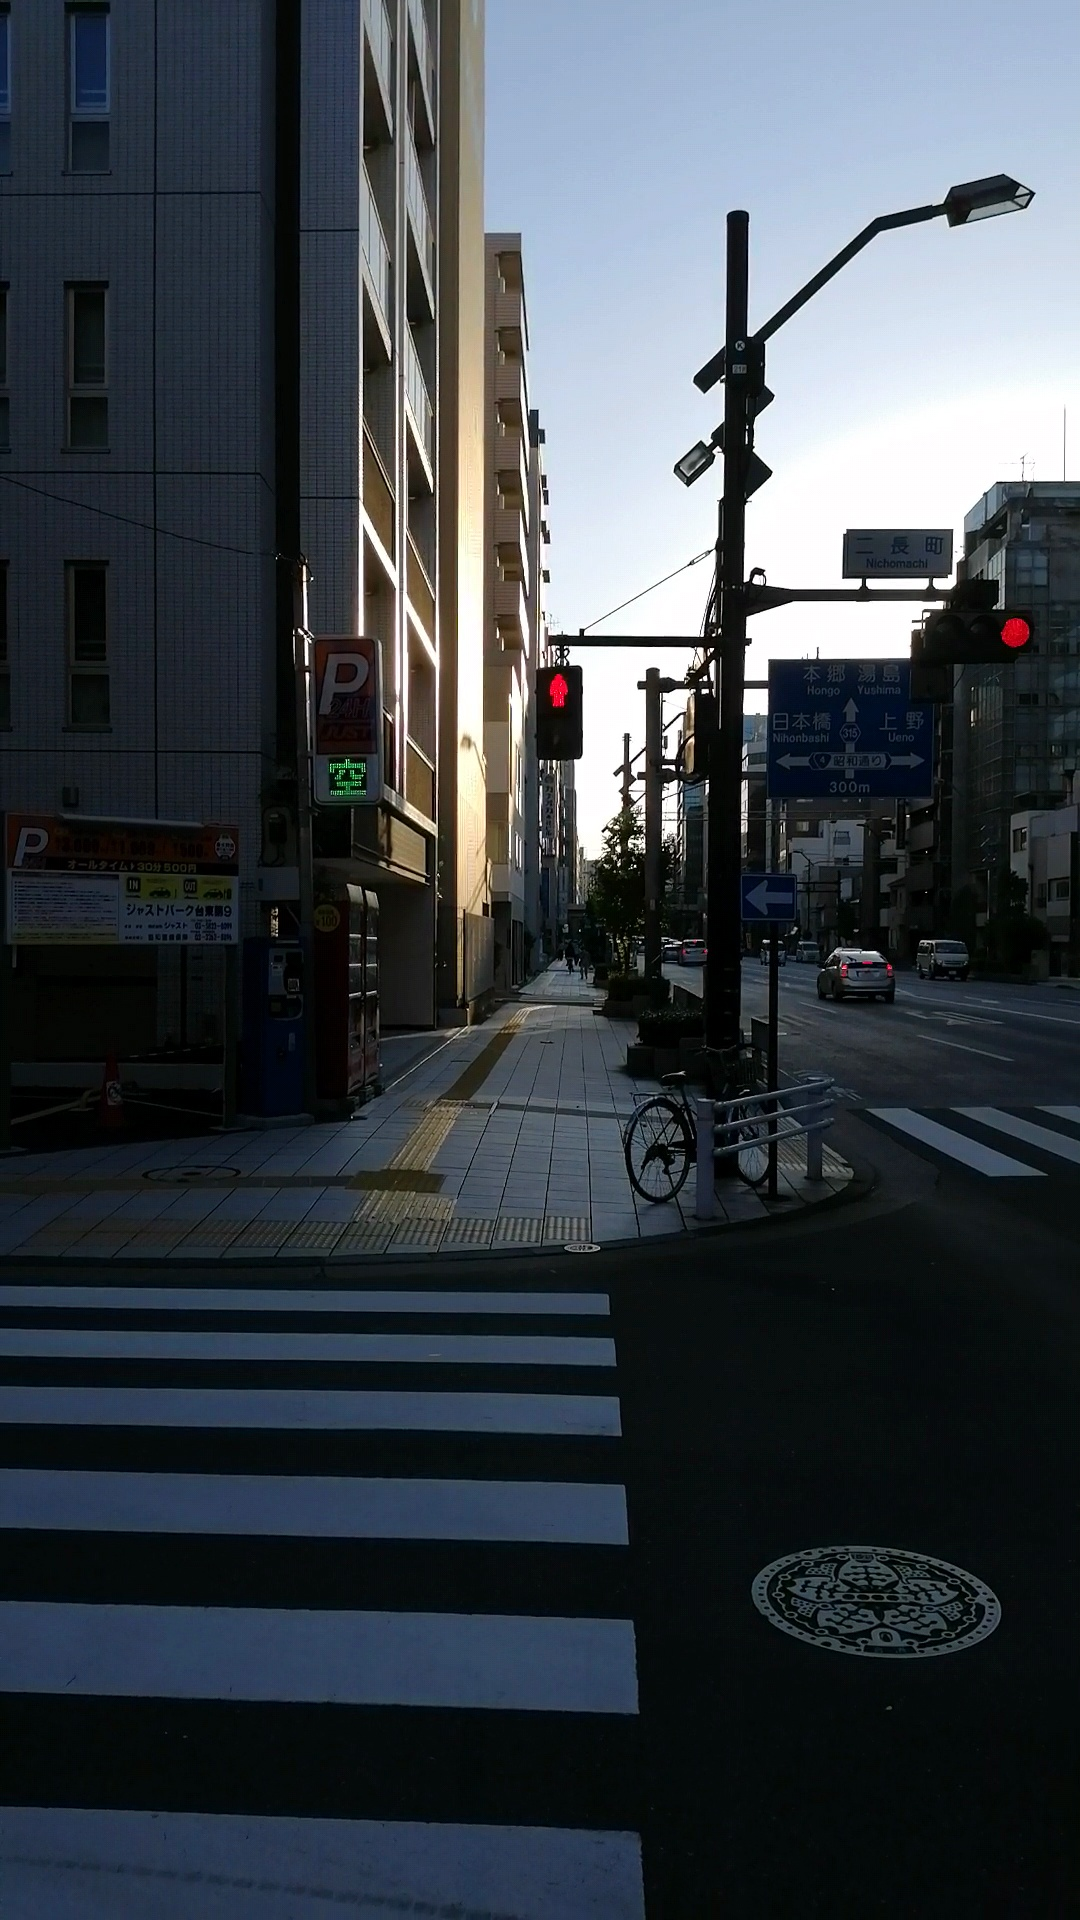red: (535, 665, 583, 762)
